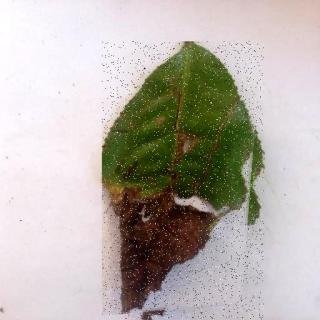Brown Blight: (104, 43, 266, 320)
